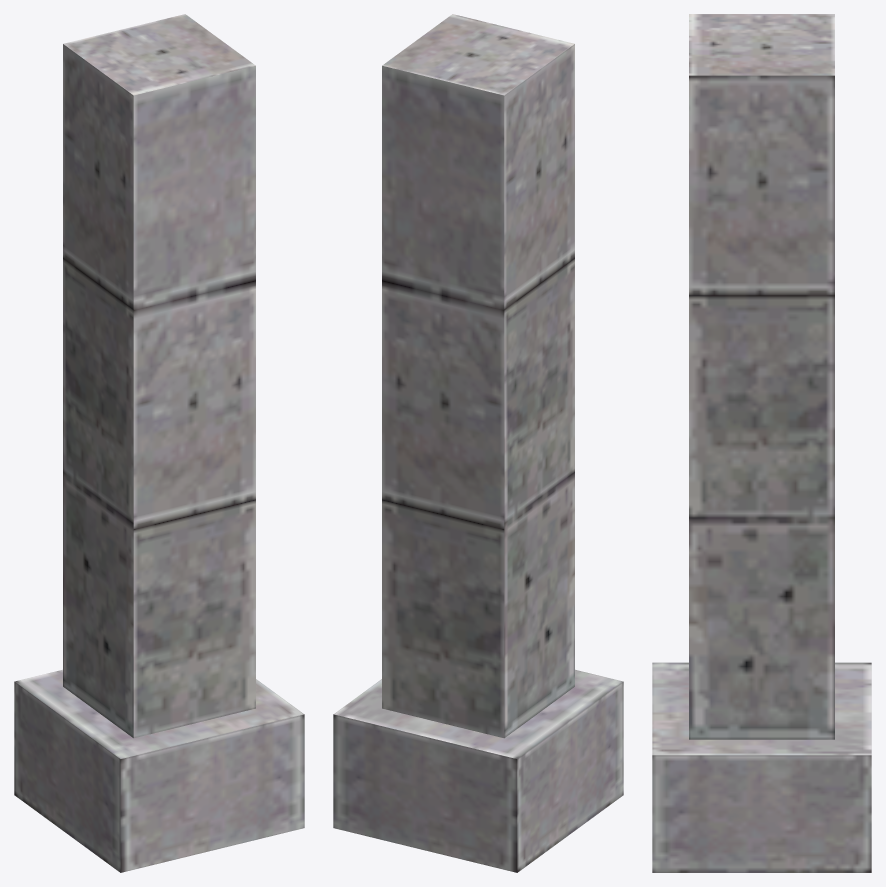
File: nml-bd041.glb
The picture shows the model from 3 angles, left to right: view 1: azimuth 30°, elevation 25°; view 2: azimuth 150°, elevation 25°; view 3: azimuth 270°, elevation 25°; orthographic projection. The views are drawn at different scales.
Parts seen in each view (by area): view 1: geom_node_0; view 2: geom_node_0; view 3: geom_node_0.
Part boxes in pixels (<box>): geom_node_0: <box>14,14,304,872</box>; geom_node_0: <box>333,14,623,872</box>; geom_node_0: <box>652,14,871,872</box>.
Bounding box in the file's own units: 0.55 × 2.16 × 0.55.
1 material, 1 textured.
